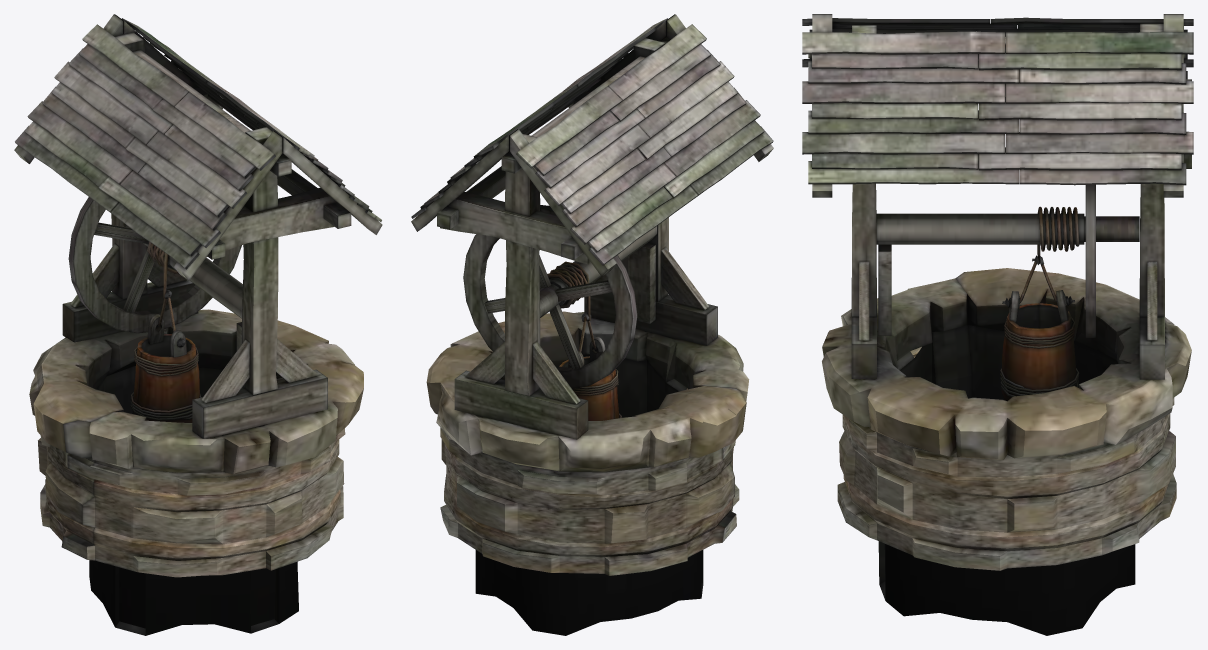
File: p_well_bucket.glb
3 views of the same model, side by side, from view 1: azimuth 30°, elevation 25°; view 2: azimuth 150°, elevation 25°; view 3: azimuth 270°, elevation 25° (orthographic). The views are drawn at different scales.
Parts seen in each view (by area): view 1: blinn4; view 2: blinn4; view 3: blinn4.
Part boxes in pixels (<box>): blinn4: <box>14,14,382,635</box>; blinn4: <box>411,14,773,635</box>; blinn4: <box>802,14,1193,635</box>.
Size of the model in its own units: 717 by 1203 by 748.
Materials: 1 (1 with a texture image).
